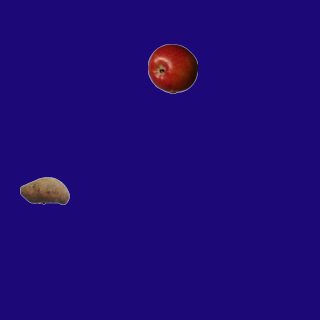Apple Braeburn: (147, 43, 197, 93)
Potato Sweet: (19, 165, 69, 215)
